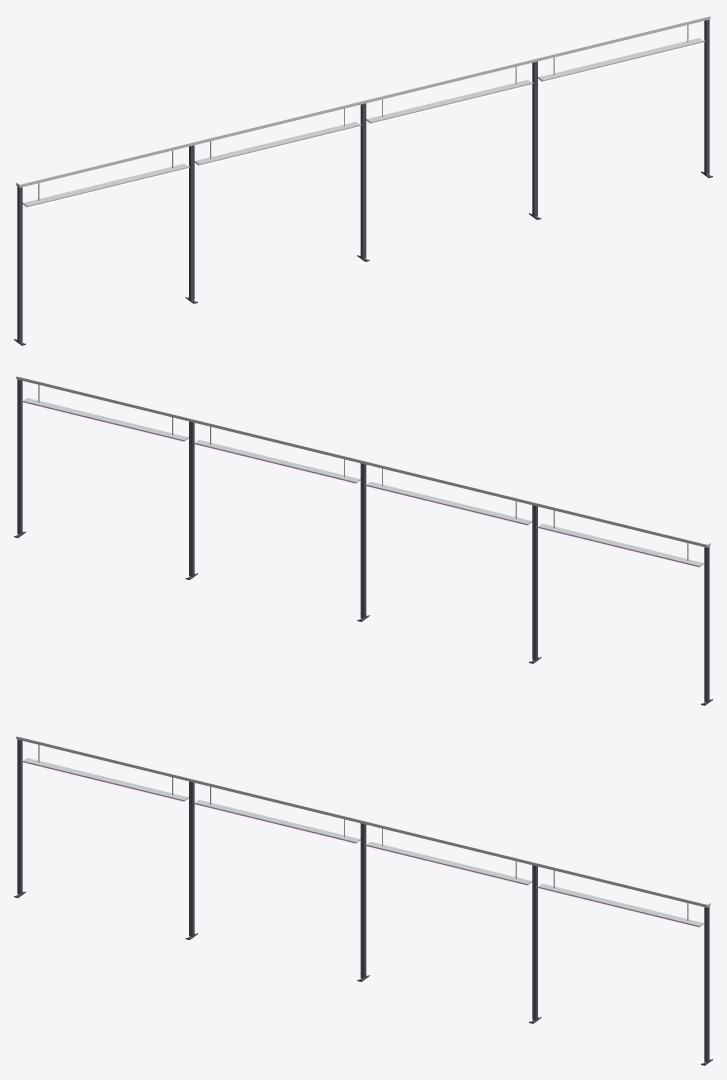
File: ext_grow_light_rack_04.glb
3 views of the same model, one above another, from view 1: azimuth 30°, elevation 25°; view 2: azimuth 150°, elevation 25°; view 3: azimuth 330°, elevation 25° (orthographic).
Visible parts, largest first — view 1: Posts, Reflectors, Top_Beam, Light_Bars; view 2: Posts, Reflectors, Top_Beam, Light_Bars; view 3: Posts, Reflectors, Top_Beam, Light_Bars.
Boxes of the visible parts, <box> form: Posts: <box>17,19,709,342</box>; Reflectors: <box>22,38,705,207</box>; Top_Beam: <box>16,16,710,187</box>; Light_Bars: <box>23,42,703,208</box>; Posts: <box>17,379,709,702</box>; Reflectors: <box>21,398,704,567</box>; Top_Beam: <box>16,376,710,547</box>; Light_Bars: <box>23,402,703,568</box>; Posts: <box>17,739,709,1062</box>; Reflectors: <box>21,758,704,927</box>; Top_Beam: <box>16,736,710,907</box>; Light_Bars: <box>23,762,703,928</box>.
Bounding box in the file's own units: 10 × 2.2 × 0.2.
